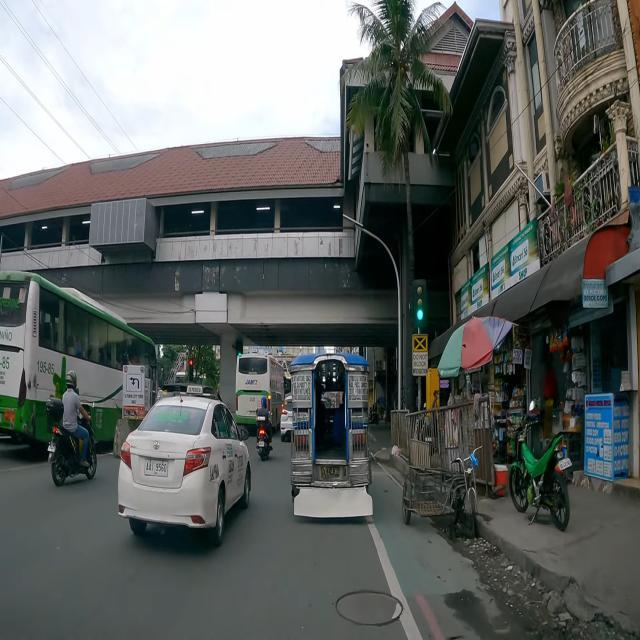bus: (0, 268, 158, 460), (235, 353, 286, 435)
car: (118, 384, 252, 550)
jeepney: (289, 354, 374, 520)
motorcycle: (496, 400, 573, 536), (47, 368, 98, 488), (256, 396, 274, 462)
tricycle: (403, 445, 483, 539)
